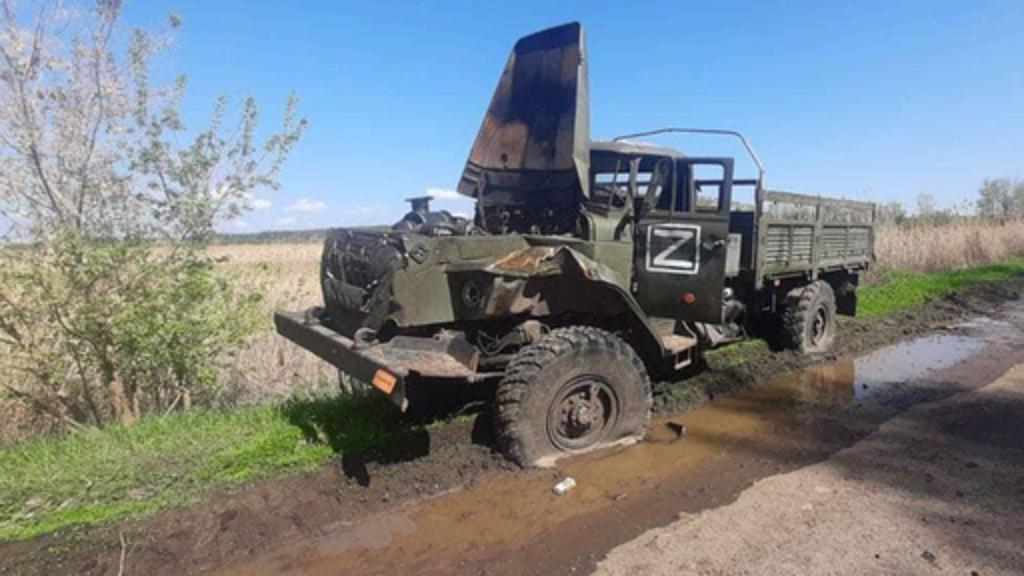TRUCK: (286, 108, 880, 486)
